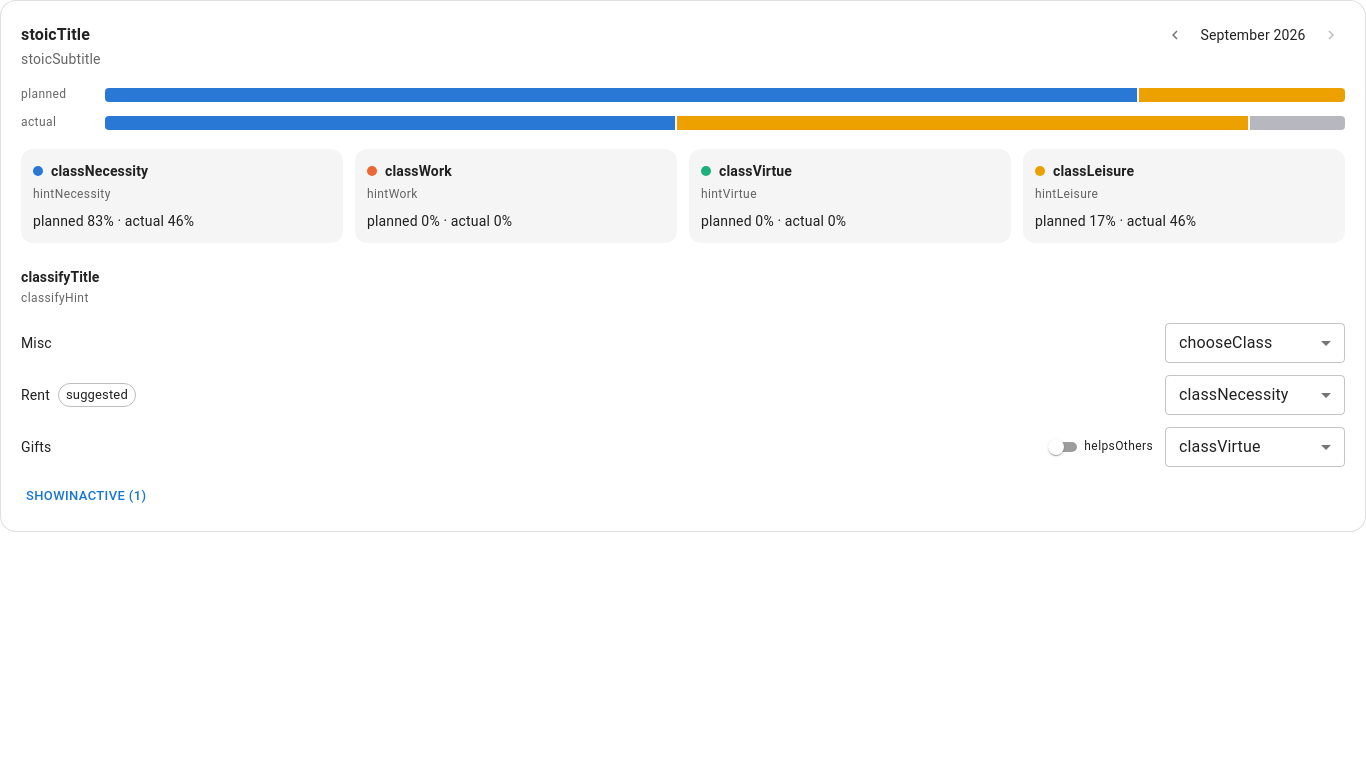
Test: StoicBalance › walks back to the month before it and forward again
The image size is (1366, 768).
Click the button named "previousMonth" at [1175, 35], box [1161, 21, 1189, 49]
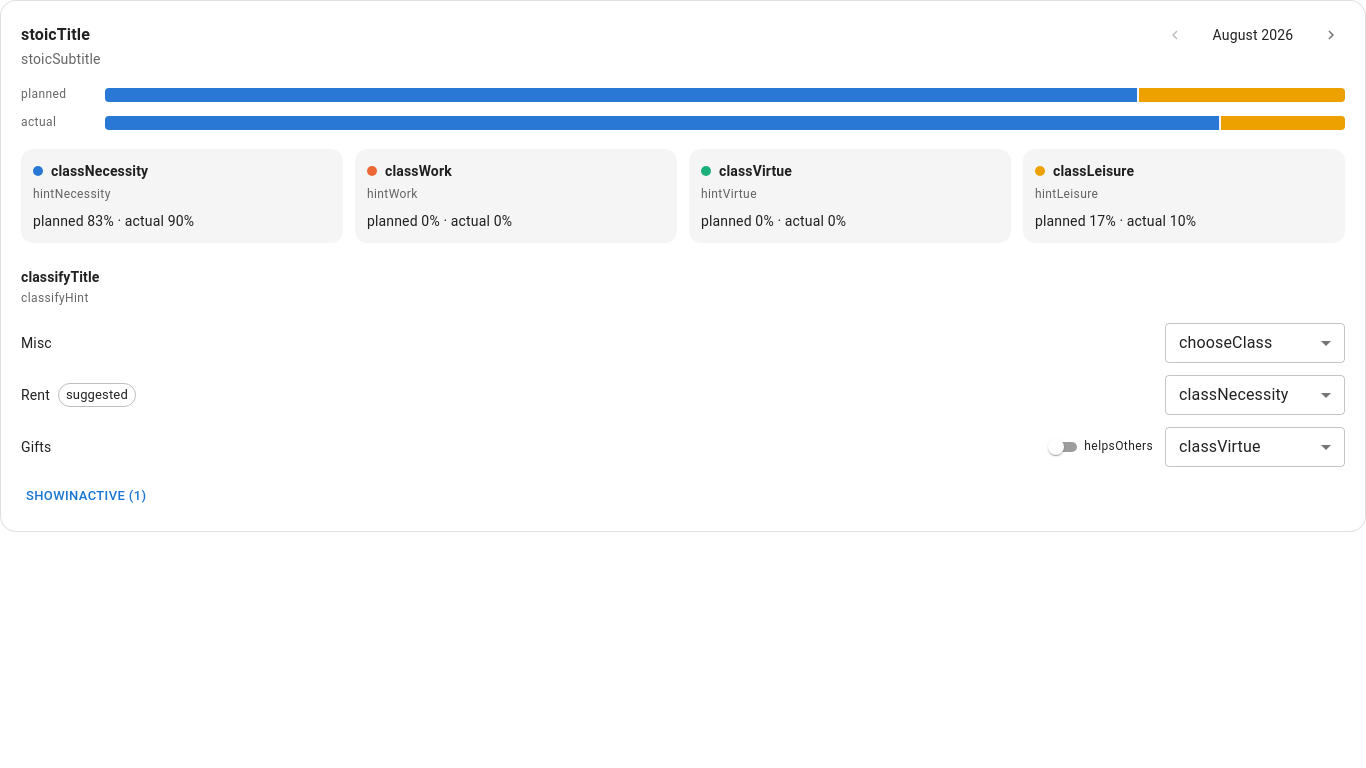
Check: the picture named "actual: classNecessity 90%" is shown, box [105, 116, 1345, 130]
Click the button named "nextMonth" at [1331, 35], box [1317, 21, 1345, 49]
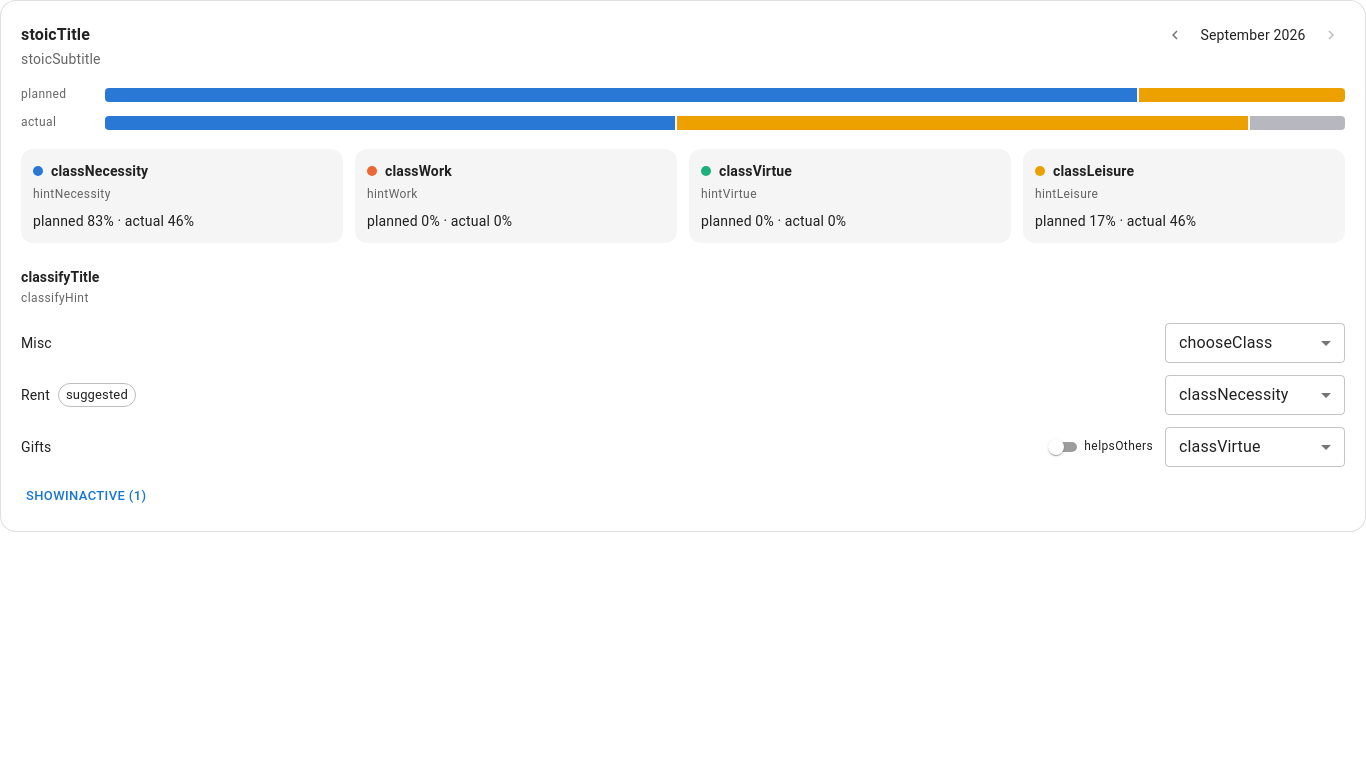
Check: the picture named "actual: classNecessity 46%, classLeisure 46%, unclassified 8" is shown, box [105, 116, 1345, 130]
